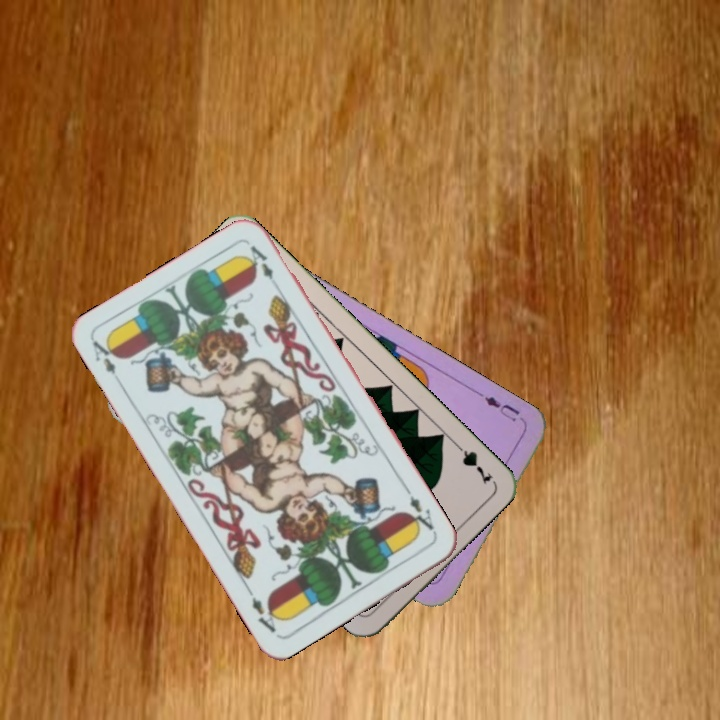EA: (89, 334, 126, 389), (401, 484, 439, 537)
EU: (475, 389, 523, 425)
G7: (449, 437, 495, 488)
